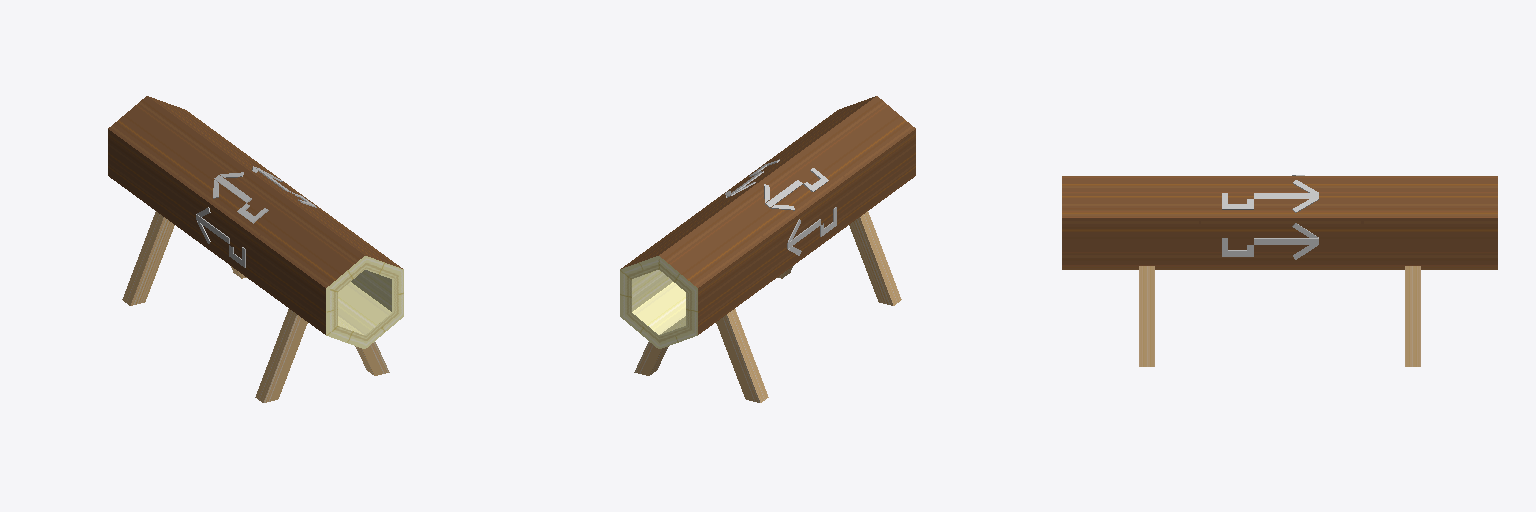
The picture shows the model from 3 angles: view 1: azimuth 30°, elevation 25°; view 2: azimuth 150°, elevation 25°; view 3: azimuth 270°, elevation 25°; orthographic projection.
Parts seen in each view (by area): view 1: Cylinder, Cube_Cube.001, Cube.002, Cube.001_Cube.002; view 2: Cylinder, Cube_Cube.001, Cube.002, Cube.001_Cube.002; view 3: Cylinder, Cube_Cube.001, Cube.001_Cube.002, Cube.002.
Part boxes in pixels (x1,y1,x2,y2): Cylinder: (108, 96, 403, 348); Cube_Cube.001: (122, 211, 389, 402); Cube.002: (213, 166, 316, 223); Cube.001_Cube.002: (196, 207, 245, 267); Cylinder: (620, 96, 915, 348); Cube_Cube.001: (634, 211, 901, 402); Cube.002: (725, 159, 828, 210); Cube.001_Cube.002: (787, 207, 836, 255); Cylinder: (1062, 176, 1497, 269); Cube_Cube.001: (1139, 266, 1420, 366); Cube.001_Cube.002: (1222, 223, 1318, 259); Cube.002: (1222, 175, 1318, 212).
Size of the model in its own units: 1.13 by 1.37 by 3.37.
Materials: 5 (4 with a texture image).